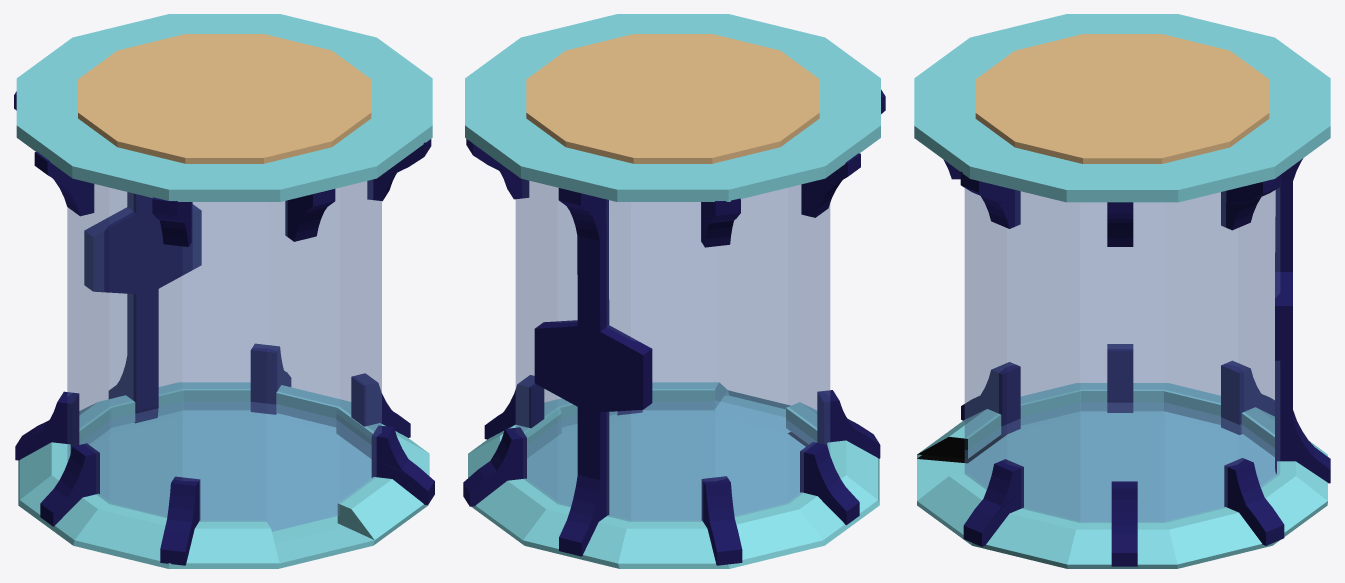
The model's file is Spawner.glb.
3 views of the same model, side by side, from view 1: azimuth 30°, elevation 25°; view 2: azimuth 150°, elevation 25°; view 3: azimuth 270°, elevation 25° (orthographic).
Visible parts, largest first — view 1: Circle.012, Circle.003, Circle.013, Cube.027, Circle.014; view 2: Circle.012, Circle.003, Cube.027, Circle.013, Circle.014; view 3: Circle.012, Circle.003, Circle.013, Circle.014, Cube.027.
Boxes of the visible parts, x1,y1,x2,y2 form: Circle.012: (67,180,381,531); Circle.003: (18,382,429,568); Circle.013: (16,14,432,201); Cube.027: (14,91,434,565); Circle.014: (78,34,371,163); Circle.012: (515,179,830,521); Circle.003: (468,382,879,568); Cube.027: (463,89,885,565); Circle.013: (465,14,880,201); Circle.014: (526,34,819,163); Circle.012: (964,187,1279,522); Circle.003: (917,383,1327,568); Circle.013: (914,14,1330,202); Circle.014: (975,34,1269,163); Cube.027: (943,158,1330,566).
Bounding box in the file's own units: 2.39 × 2.43 × 2.37.
